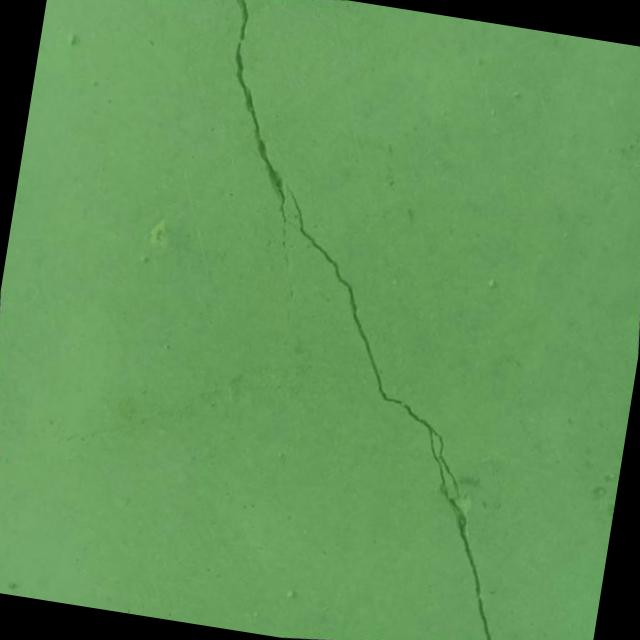crack: (136, 0, 593, 640)
